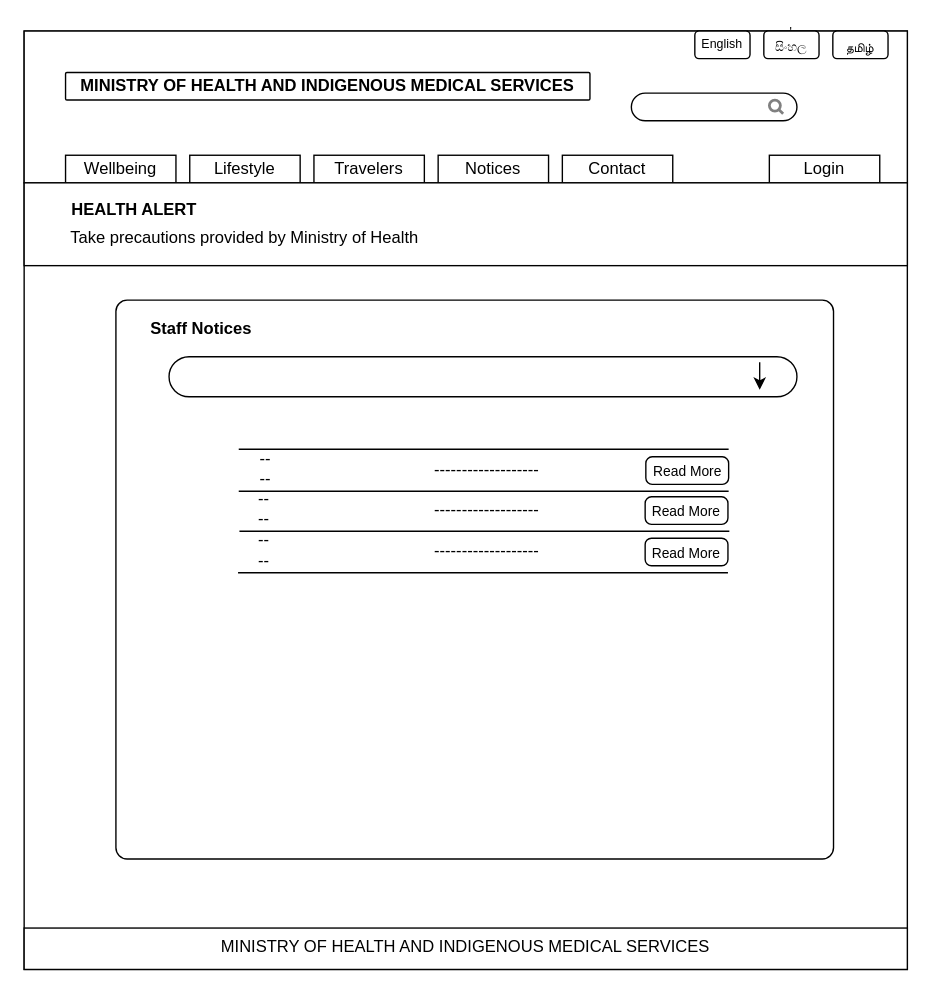
Image size: 932x1001. Some labels were removed from this diagram. Each missing label, with the centre of its shape:
"Search" belongs at point (713, 106).
"Select a month" belongs at point (482, 376).
